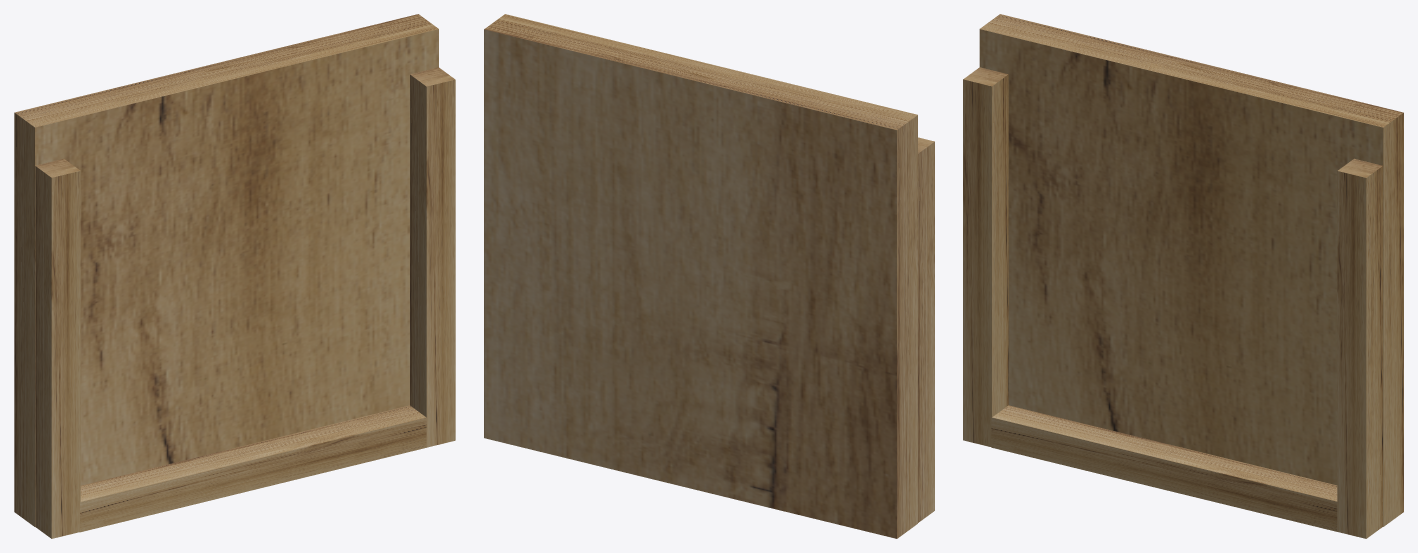
Rendered from WoodContainer.fbx.
3 views of the same model, side by side, from view 1: azimuth 30°, elevation 25°; view 2: azimuth 150°, elevation 25°; view 3: azimuth 330°, elevation 25° (orthographic). The views are drawn at different scales.
Parts seen in each view (by area): view 1: Cube.001, Cube.002, Cube.003, Cube.004; view 2: Cube.001, Cube.002; view 3: Cube.001, Cube.003, Cube.002, Cube.004.
Part boxes in pixels (left/top/right/bottom): Cube.001: left=14, top=14, right=438, bottom=526; Cube.002: left=35, top=159, right=80, bottom=538; Cube.003: left=410, top=67, right=455, bottom=447; Cube.004: left=80, top=405, right=426, bottom=532; Cube.001: left=484, top=14, right=917, bottom=538; Cube.002: left=918, top=137, right=934, bottom=522; Cube.001: left=979, top=14, right=1403, bottom=526; Cube.003: left=1337, top=158, right=1382, bottom=538; Cube.002: left=963, top=67, right=1008, bottom=446; Cube.004: left=991, top=405, right=1337, bottom=531.
Bounding box in the file's own units: 212 × 200 × 33.87.
